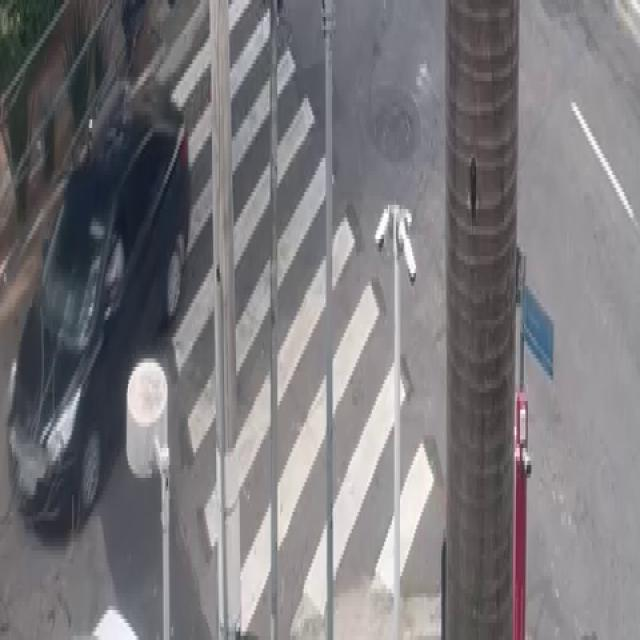car: (6, 101, 193, 542)
